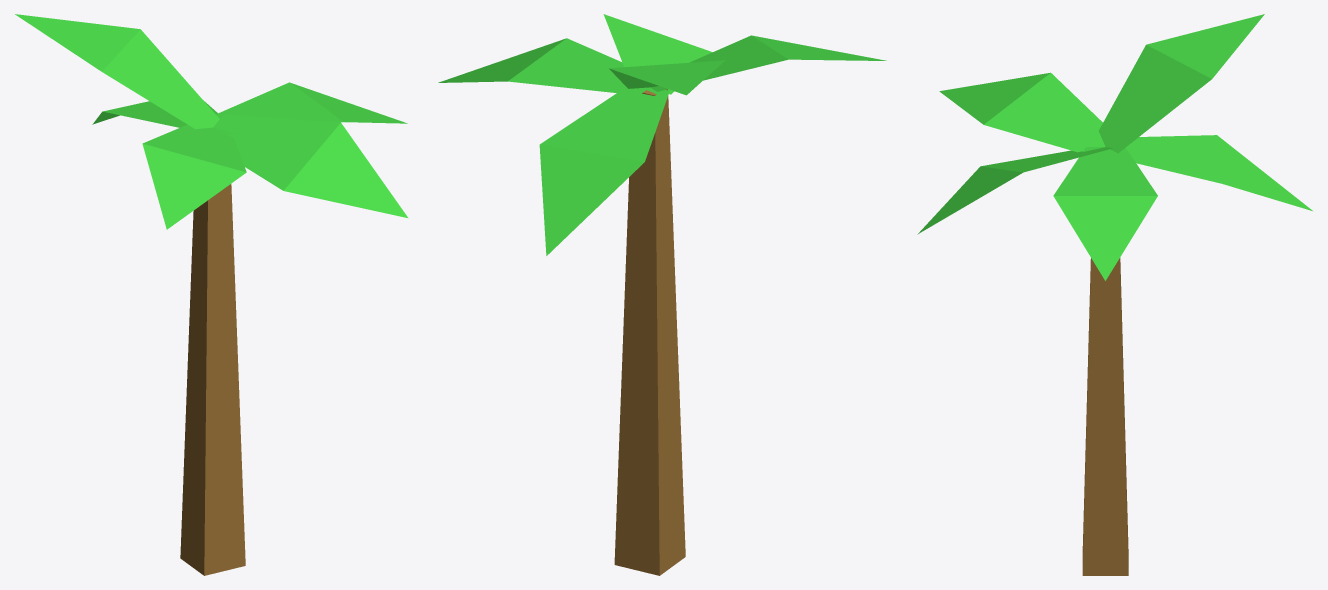
The model's file is Palm.glb.
The picture shows the model from 3 angles, left to right: view 1: azimuth 30°, elevation 25°; view 2: azimuth 150°, elevation 25°; view 3: azimuth 270°, elevation 25°; orthographic projection. The views are drawn at different scales.
Visible parts, largest first — view 1: Palm; view 2: Palm; view 3: Palm.
Boxes of the visible parts, left/top/right/bottom form: Palm: left=15, top=14, right=408, bottom=575; Palm: left=438, top=14, right=886, bottom=575; Palm: left=917, top=14, right=1312, bottom=575.
Size of the model in its own units: 3.16 by 4.76 by 3.44.
1 material, 1 textured.
